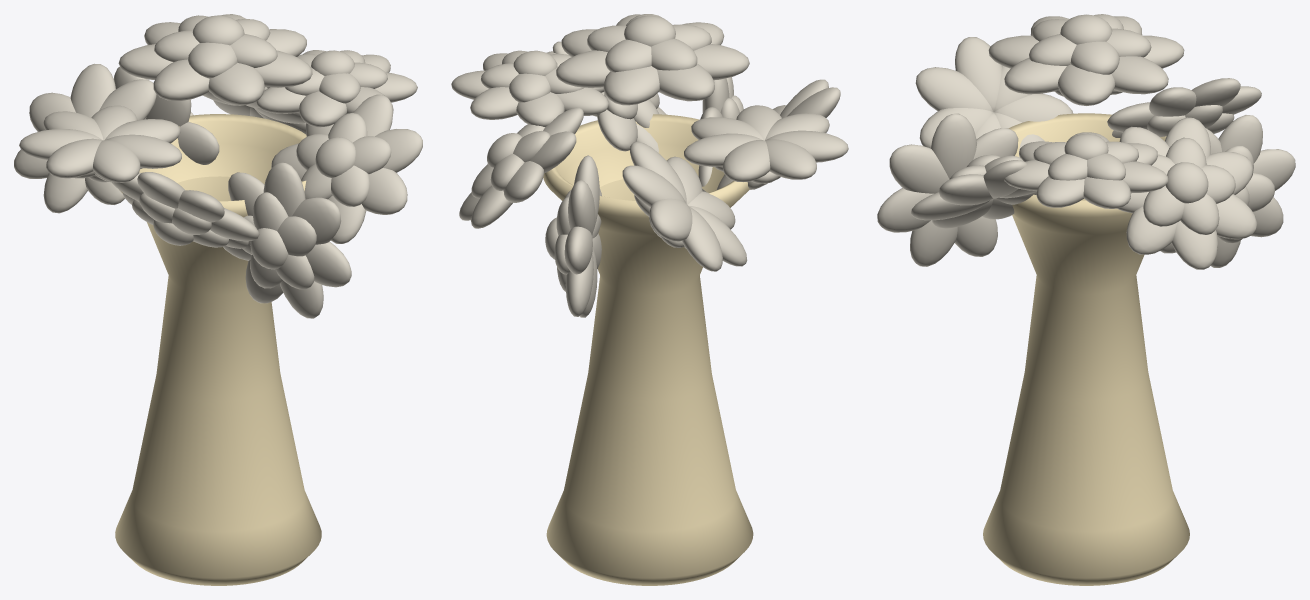
Rendered from floral-centerpiece.glb.
The picture shows the model from 3 angles, left to right: view 1: azimuth 30°, elevation 25°; view 2: azimuth 150°, elevation 25°; view 3: azimuth 270°, elevation 25°; orthographic projection.
Visible parts, largest first — view 1: petals-1, vase-0, heart-2; view 2: vase-0, petals-1, heart-2; view 3: petals-1, vase-0, heart-2.
Part boxes in pixels (left/top/right/bottom): petals-1: left=14, top=14, right=422, bottom=318; vase-0: left=115, top=114, right=321, bottom=585; heart-2: left=88, top=15, right=355, bottom=269; vase-0: left=543, top=114, right=753, bottom=585; petals-1: left=451, top=14, right=848, bottom=317; heart-2: left=487, top=15, right=780, bottom=259; petals-1: left=877, top=14, right=1295, bottom=269; vase-0: left=983, top=113, right=1189, bottom=585; heart-2: left=967, top=14, right=1249, bottom=205.
Bounding box in the file's own units: 1.02 × 1.41 × 1.01.
